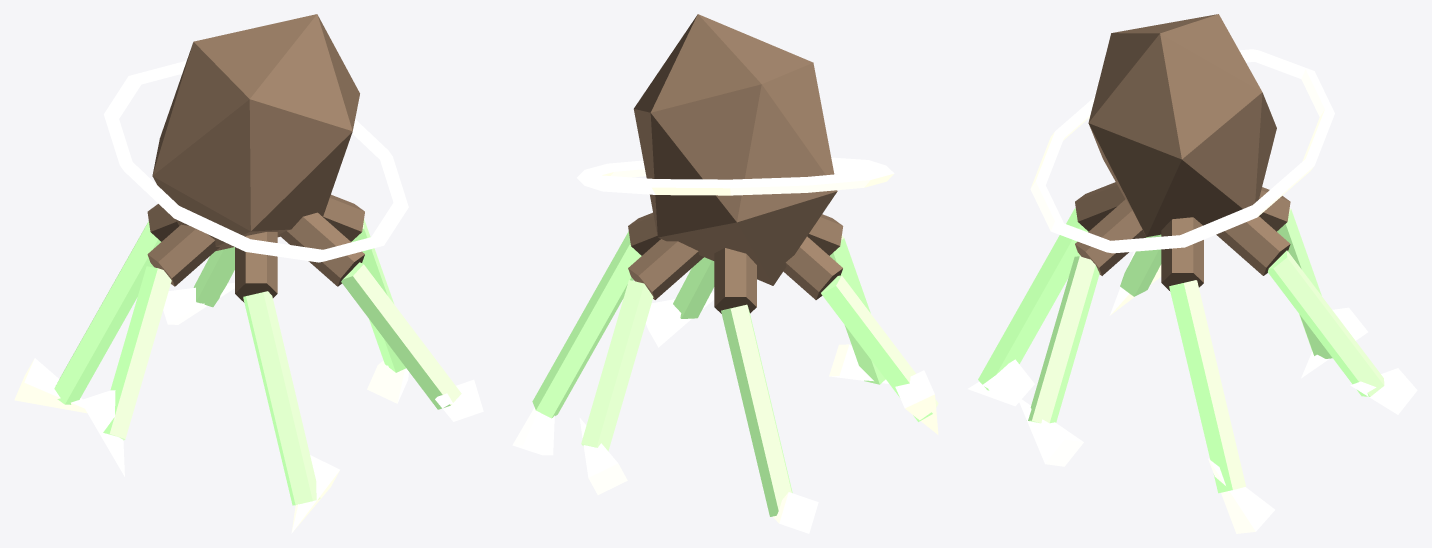
The model's file is entangling_roots.glb.
The picture shows the model from 3 angles, left to right: view 1: azimuth 30°, elevation 25°; view 2: azimuth 150°, elevation 25°; view 3: azimuth 270°, elevation 25°; orthographic projection.
Visible parts, largest first — view 1: RootSeed, NatureRune, RootArmB_4, RootArmB_2, RootArmB_5, RootArmB_3, RootArmA_5, RootArmA_3, RootArmA_4, Thorn_2, RootArmB_1, Thorn_3 (+7 smaller); view 2: RootSeed, NatureRune, RootArmB_2, RootArmB_0, RootArmB_1, RootArmB_3, RootArmA_1, RootArmA_2, RootArmA_3, RootArmB_5, RootArmB_4, Thorn_3 (+7 smaller); view 3: RootSeed, NatureRune, RootArmB_0, RootArmB_5, RootArmB_1, RootArmB_4, RootArmA_1, RootArmA_0, RootArmA_5, Thorn_0, Thorn_5, Thorn_4 (+6 smaller).
Part boxes in pixels (bbox=[...]): RootSeed: bbox=[152, 14, 359, 250]; NatureRune: bbox=[104, 60, 408, 262]; RootArmB_4: bbox=[243, 291, 320, 505]; RootArmB_2: bbox=[54, 221, 160, 404]; RootArmB_5: bbox=[341, 262, 461, 409]; RootArmB_3: bbox=[103, 266, 171, 440]; RootArmA_5: bbox=[279, 212, 364, 286]; RootArmA_3: bbox=[147, 224, 219, 286]; RootArmA_4: bbox=[235, 232, 277, 302]; Thorn_2: bbox=[14, 358, 87, 413]; RootArmB_1: bbox=[193, 247, 234, 307]; Thorn_3: bbox=[80, 390, 124, 476]; RootSeed: bbox=[633, 14, 837, 285]; NatureRune: bbox=[577, 157, 894, 195]; RootArmB_2: bbox=[721, 304, 792, 516]; RootArmB_0: bbox=[532, 231, 641, 418]; RootArmB_1: bbox=[581, 280, 653, 451]; RootArmB_3: bbox=[821, 275, 938, 421]; RootArmA_1: bbox=[628, 239, 703, 299]; RootArmA_2: bbox=[714, 248, 756, 313]; RootArmA_3: bbox=[783, 236, 842, 299]; RootArmB_5: bbox=[673, 257, 714, 318]; RootArmB_4: bbox=[830, 235, 885, 384]; Thorn_3: bbox=[895, 370, 938, 434]; RootSeed: bbox=[1088, 14, 1276, 236]; NatureRune: bbox=[1030, 49, 1334, 253]; RootArmB_0: bbox=[1169, 280, 1245, 493]; RootArmB_5: bbox=[1028, 256, 1099, 423]; RootArmB_1: bbox=[1268, 250, 1384, 396]; RootArmB_4: bbox=[978, 208, 1088, 390]; RootArmA_1: bbox=[1216, 216, 1290, 275]; RootArmA_0: bbox=[1161, 217, 1203, 290]; RootArmA_5: bbox=[1075, 199, 1146, 275]; Thorn_0: bbox=[1208, 458, 1274, 533]; Thorn_5: bbox=[1017, 396, 1083, 466]; Thorn_4: bbox=[968, 359, 1034, 406].
Bounding box in the file's own units: 0.9139 × 1.03 × 0.9517.
